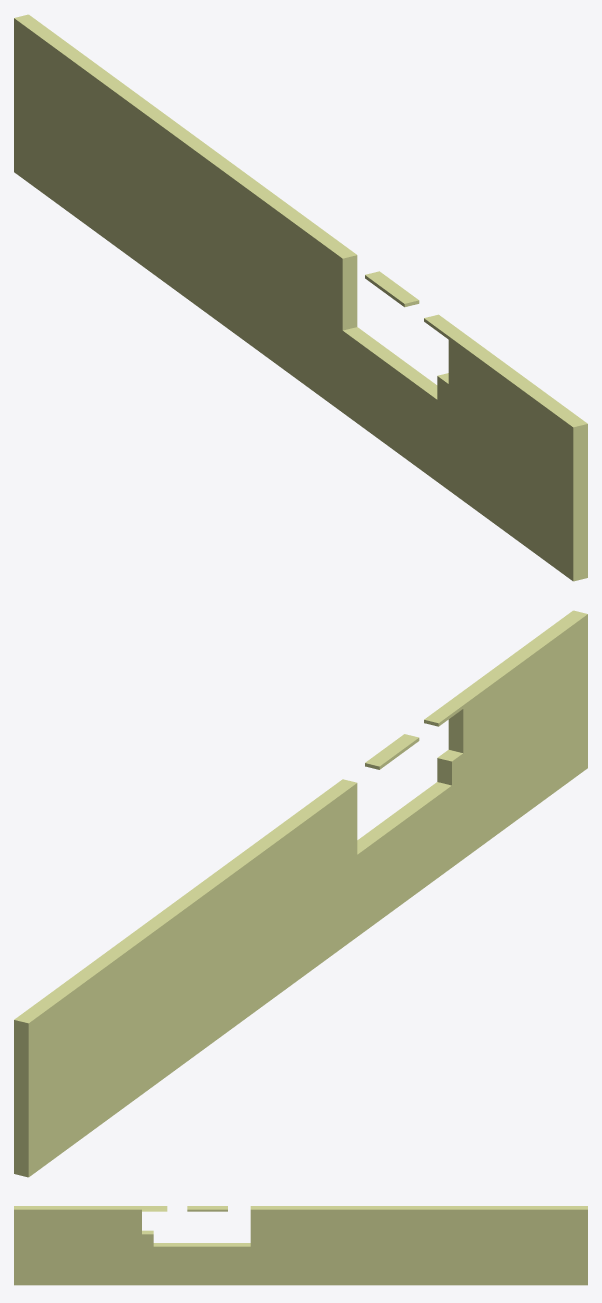
File: GroundUVs.fbx
The picture shows the model from 3 angles, top to bottom: view 1: azimuth 30°, elevation 25°; view 2: azimuth 150°, elevation 25°; view 3: azimuth 270°, elevation 25°; orthographic projection. The views are drawn at different scales.
Visible parts, largest first — view 1: Ground; view 2: Ground; view 3: Ground.
Boxes of the visible parts, box(x1,y1,x2,y2) form: Ground: box(14, 14, 587, 581); Ground: box(14, 610, 587, 1177); Ground: box(14, 1206, 587, 1285).
Size of the model in its own units: 450 by 4500 by 29600.
